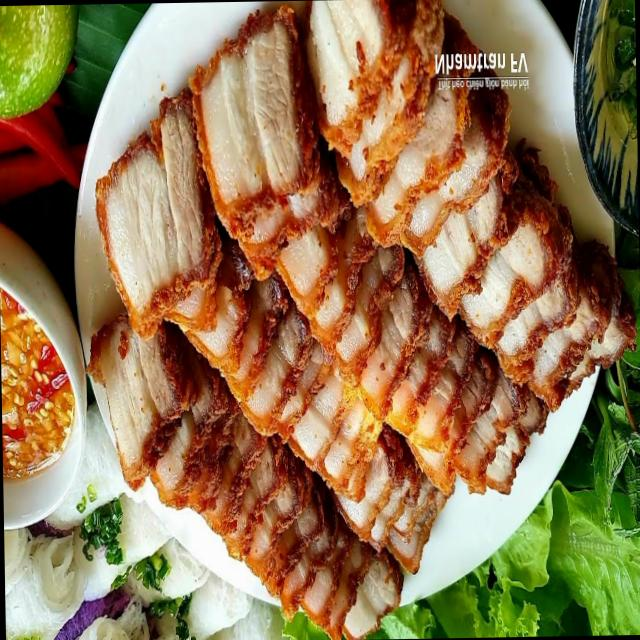thit chien: (192, 8, 546, 495), (96, 93, 449, 573), (306, 0, 634, 408), (88, 315, 402, 640)
